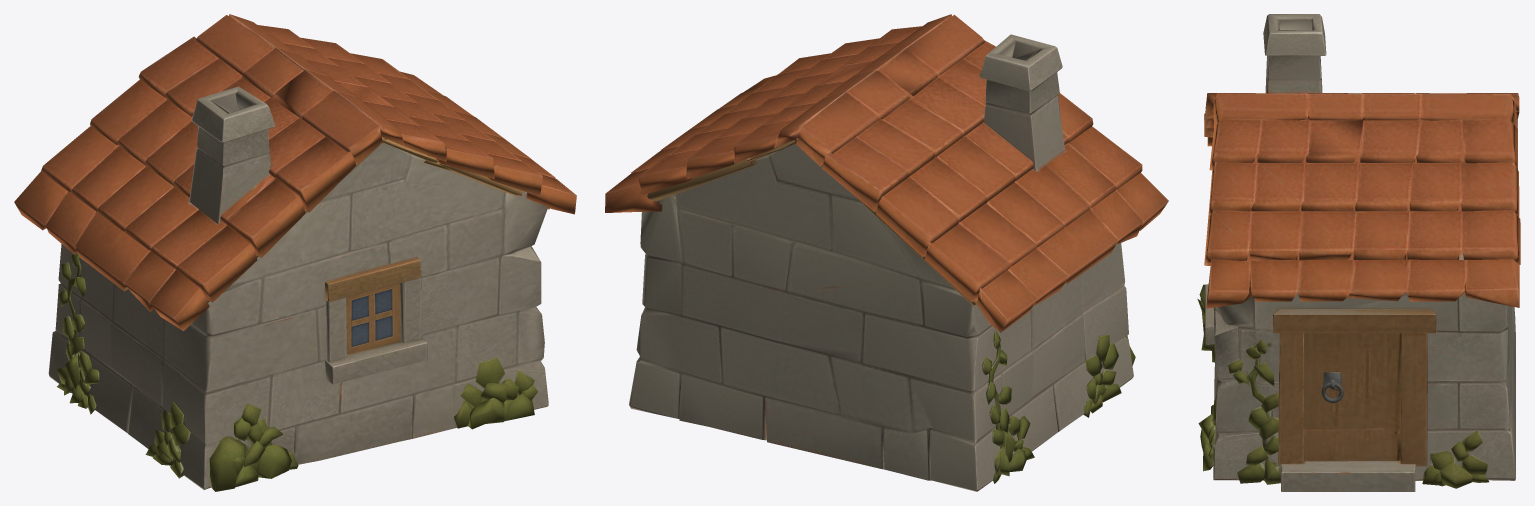
Rendered from AW-VAR-BUILD-003-v0.2.glb.
3 views of the same model, side by side, from view 1: azimuth 30°, elevation 25°; view 2: azimuth 150°, elevation 25°; view 3: azimuth 270°, elevation 25° (orthographic). The views are drawn at different scales.
Parts seen in each view (by area): view 1: AW-VAR-BUILD-003_meter_ground_pivot; view 2: AW-VAR-BUILD-003_meter_ground_pivot; view 3: AW-VAR-BUILD-003_meter_ground_pivot.
Boxes of the visible parts, left/top/right/bottom form: AW-VAR-BUILD-003_meter_ground_pivot: left=14, top=14, right=576, bottom=491; AW-VAR-BUILD-003_meter_ground_pivot: left=605, top=14, right=1168, bottom=491; AW-VAR-BUILD-003_meter_ground_pivot: left=1197, top=14, right=1520, bottom=491.
Bounding box in the file's own units: 4.7 × 3.8 × 3.37.
1 material, 1 textured.
